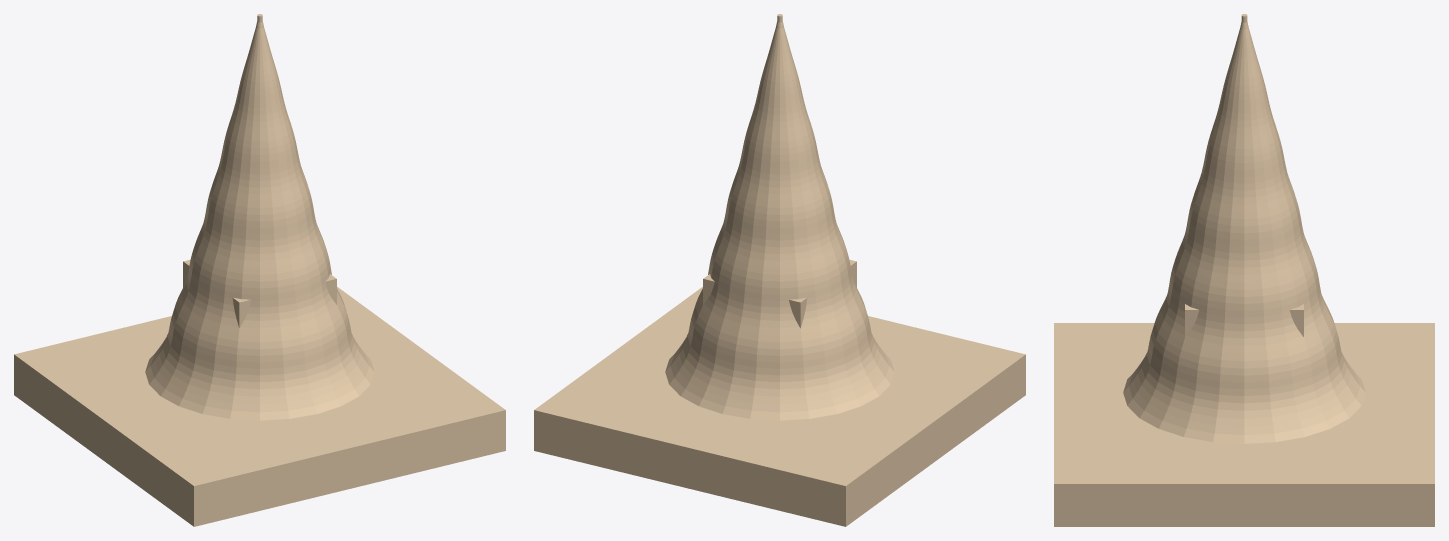
Rendered from nagara_s3.glb.
3 views of the same model, side by side, from view 1: azimuth 30°, elevation 25°; view 2: azimuth 150°, elevation 25°; view 3: azimuth 270°, elevation 25° (orthographic). The views are drawn at different scales.
Parts seen in each view (by area): view 1: nagara; view 2: nagara; view 3: nagara.
Boxes of the visible parts, left/top/right/bottom form: nagara: left=14, top=14, right=505, bottom=526; nagara: left=534, top=14, right=1025, bottom=526; nagara: left=1054, top=14, right=1434, bottom=526.
Bounding box in the file's own units: 8 × 10 × 8.
